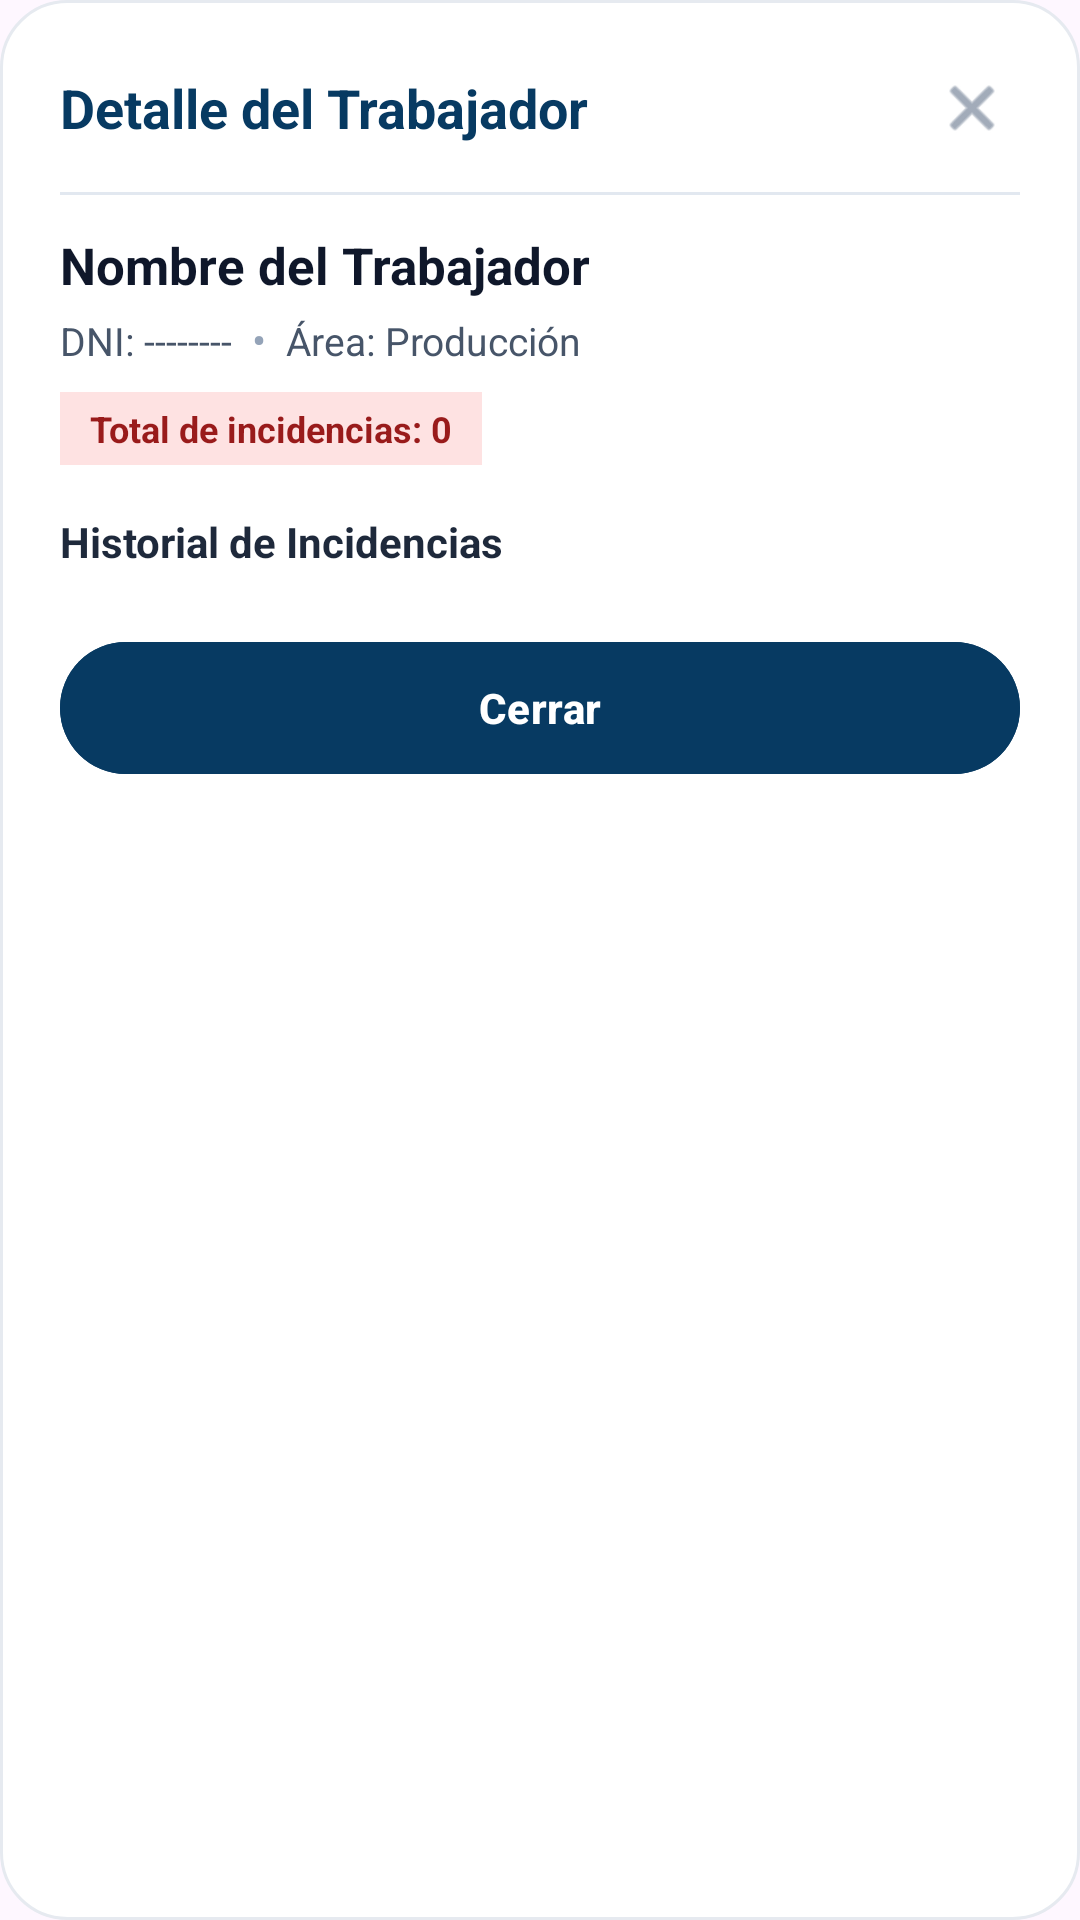

Icons on this 1080x1920 Android screen, each with its box as (x1, y1, x2, y2):
close clear cancel: (950, 86, 994, 130)
